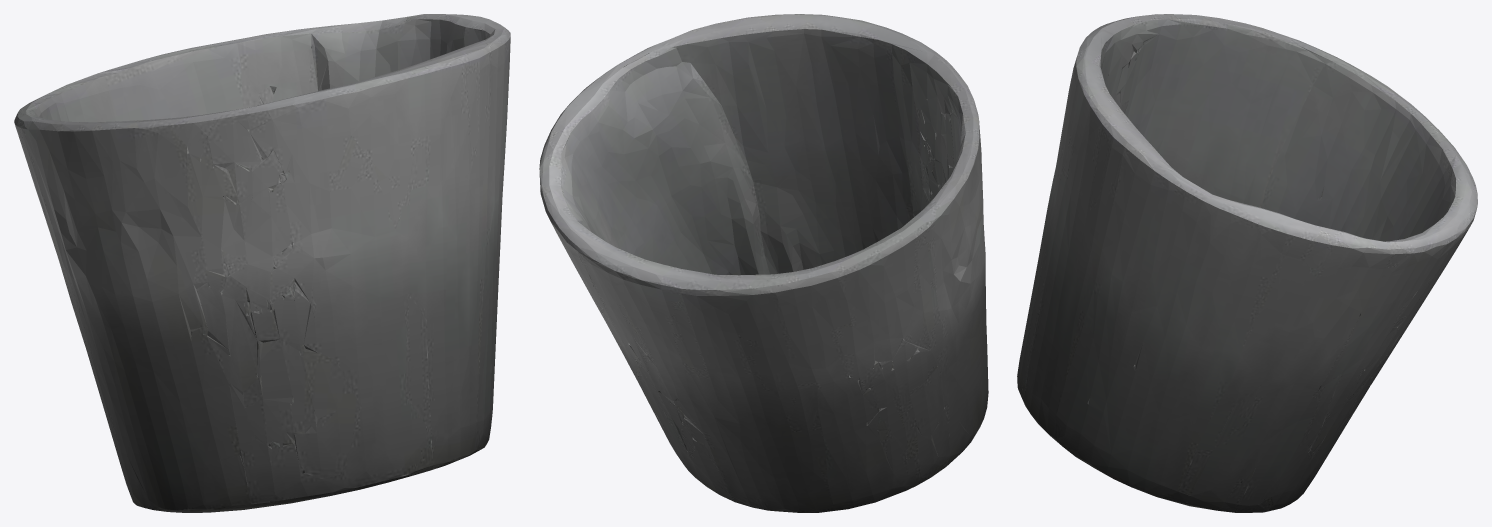
The model's file is grey_trash_can_000.glb.
3 renders of one model, left to right at view 1: azimuth 30°, elevation 25°; view 2: azimuth 150°, elevation 25°; view 3: azimuth 270°, elevation 25°, orthographic. The views are drawn at different scales.
Visible parts, largest first — view 1: grey_trash_can_000.obj; view 2: grey_trash_can_000.obj; view 3: grey_trash_can_000.obj.
Part boxes in pixels (bbox=[...]): grey_trash_can_000.obj: bbox=[14, 14, 510, 512]; grey_trash_can_000.obj: bbox=[539, 14, 988, 512]; grey_trash_can_000.obj: bbox=[1017, 14, 1477, 512].
Bounding box in the file's own units: 0.1656 × 0.166 × 0.1664.
Materials: 1 (1 with a texture image).
